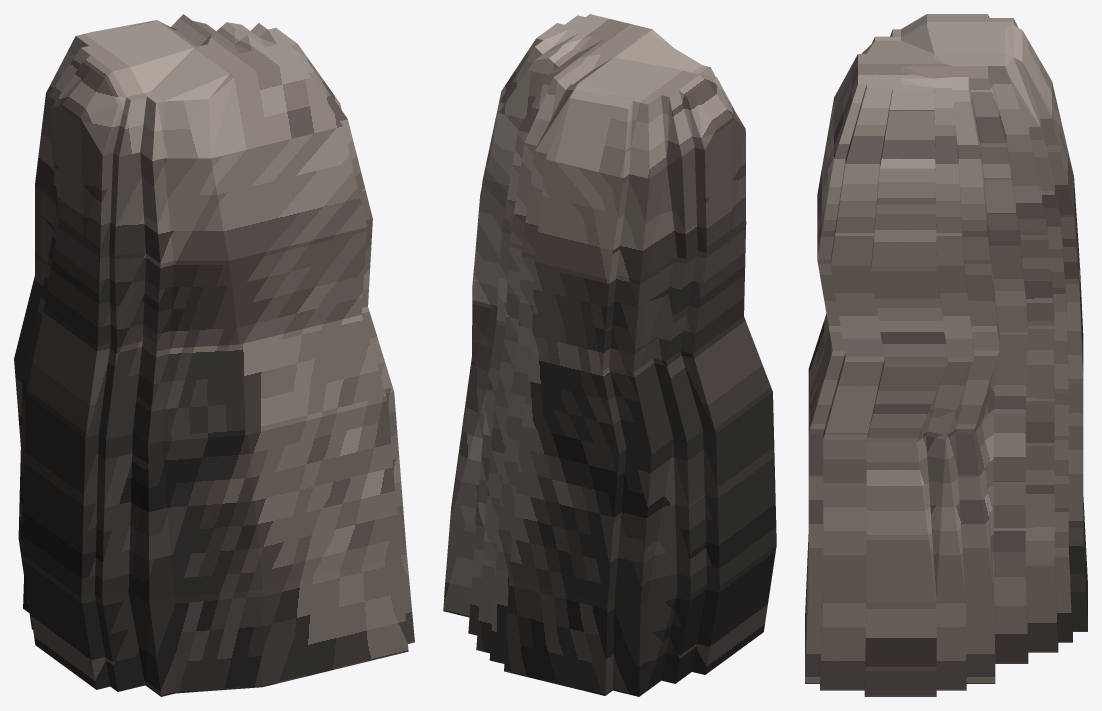
Rendered from standing_stone_634x02.gltf.
3 renders of one model, left to right at view 1: azimuth 30°, elevation 25°; view 2: azimuth 150°, elevation 25°; view 3: azimuth 270°, elevation 25°, orthographic. The views are drawn at different scales.
Parts seen in each view (by area): view 1: standing_stone_634x02; view 2: standing_stone_634x02; view 3: standing_stone_634x02.
Boxes of the visible parts, x1=… form: standing_stone_634x02: x1=14, y1=14, x2=414, y2=696; standing_stone_634x02: x1=443, y1=14, x2=776, y2=696; standing_stone_634x02: x1=805, y1=14, x2=1087, y2=696.
Bounding box in the file's own units: 1.44 × 2.58 × 1.18.
1 material, 1 textured.
